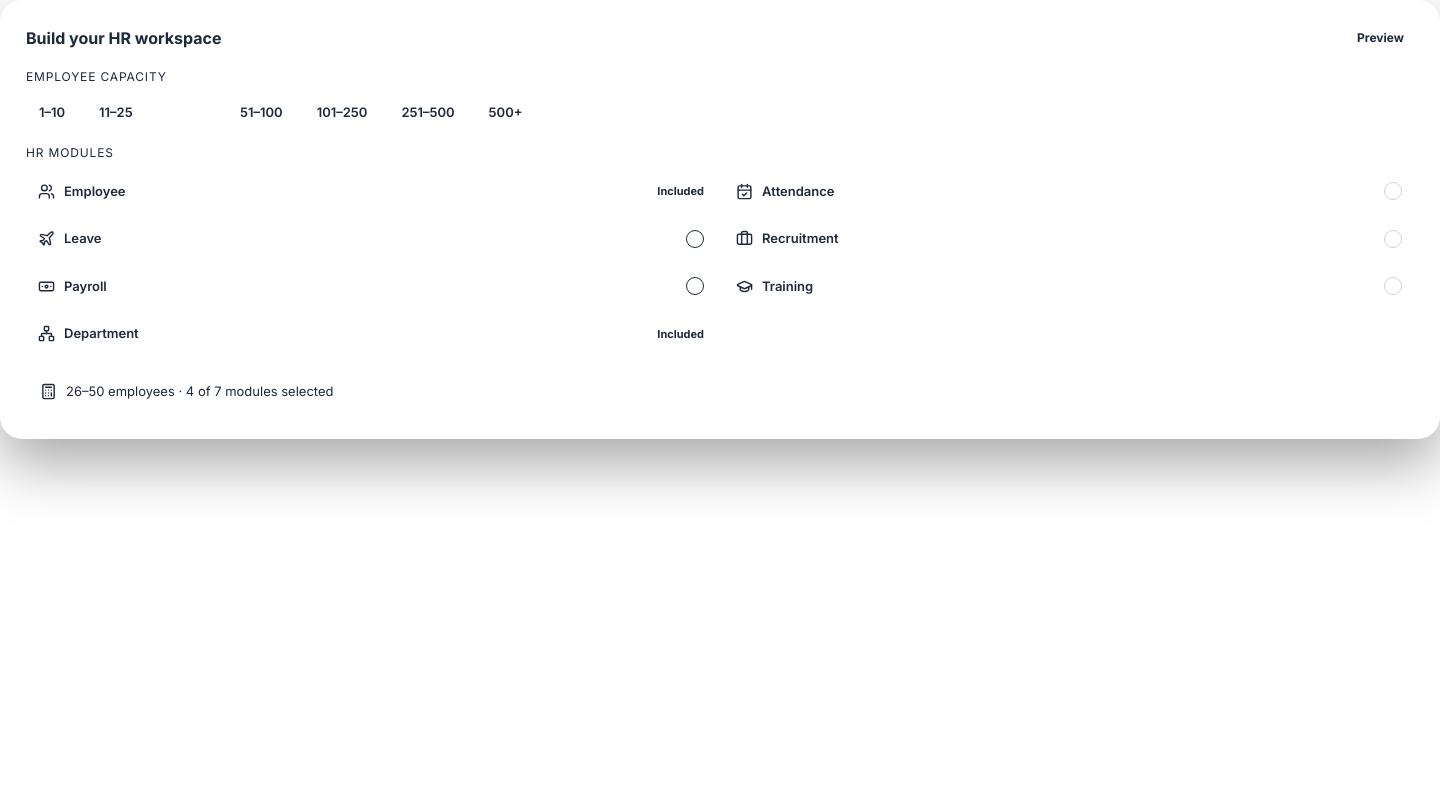
ConfiguratorPreview without an API › updates the summary when capacity and modules change
Step 1. Click the button "500+" → [506, 113], box x1=476 y1=96 x2=536 y2=130
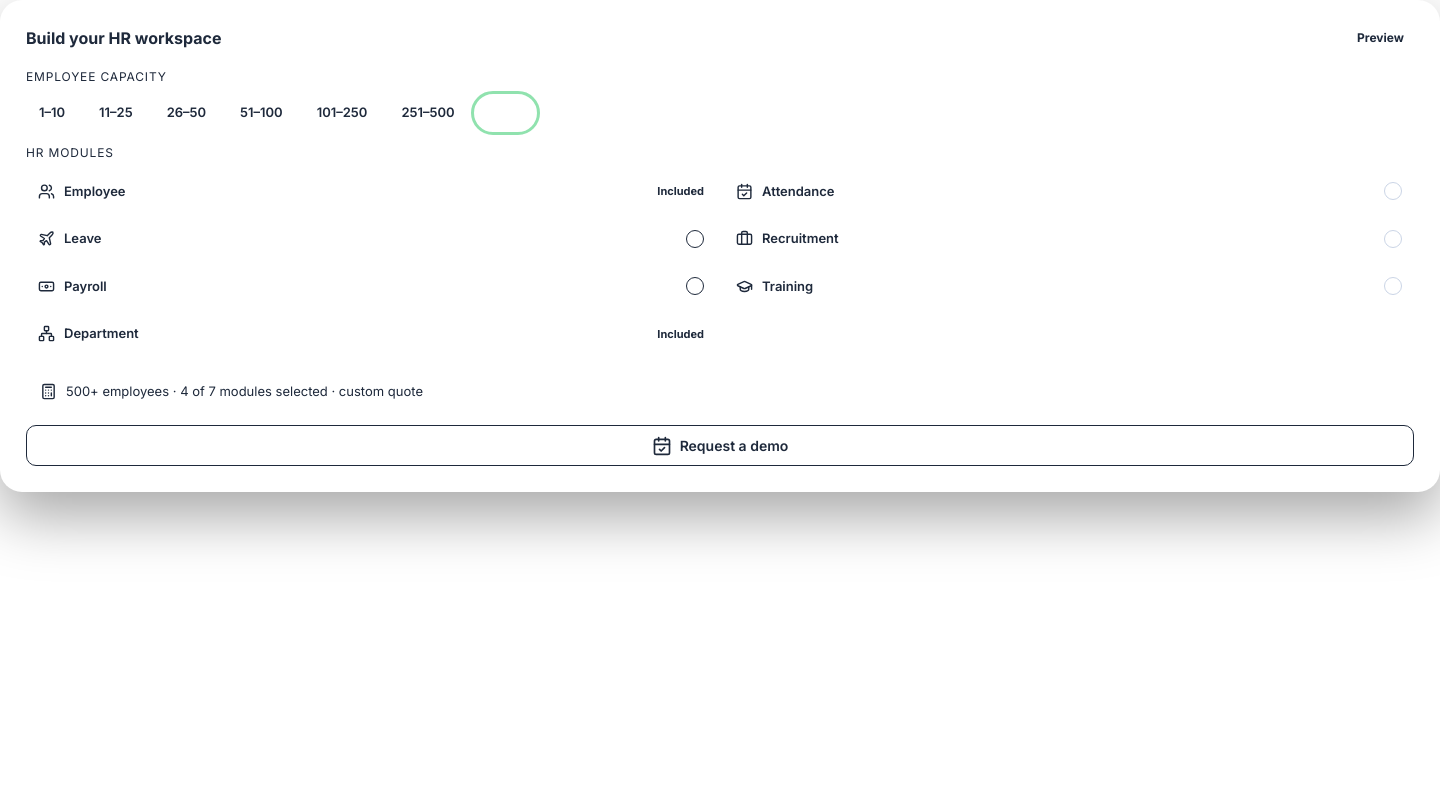
Step 2. Click the button "Training" → [788, 286], box x1=724 y1=266 x2=1414 y2=306
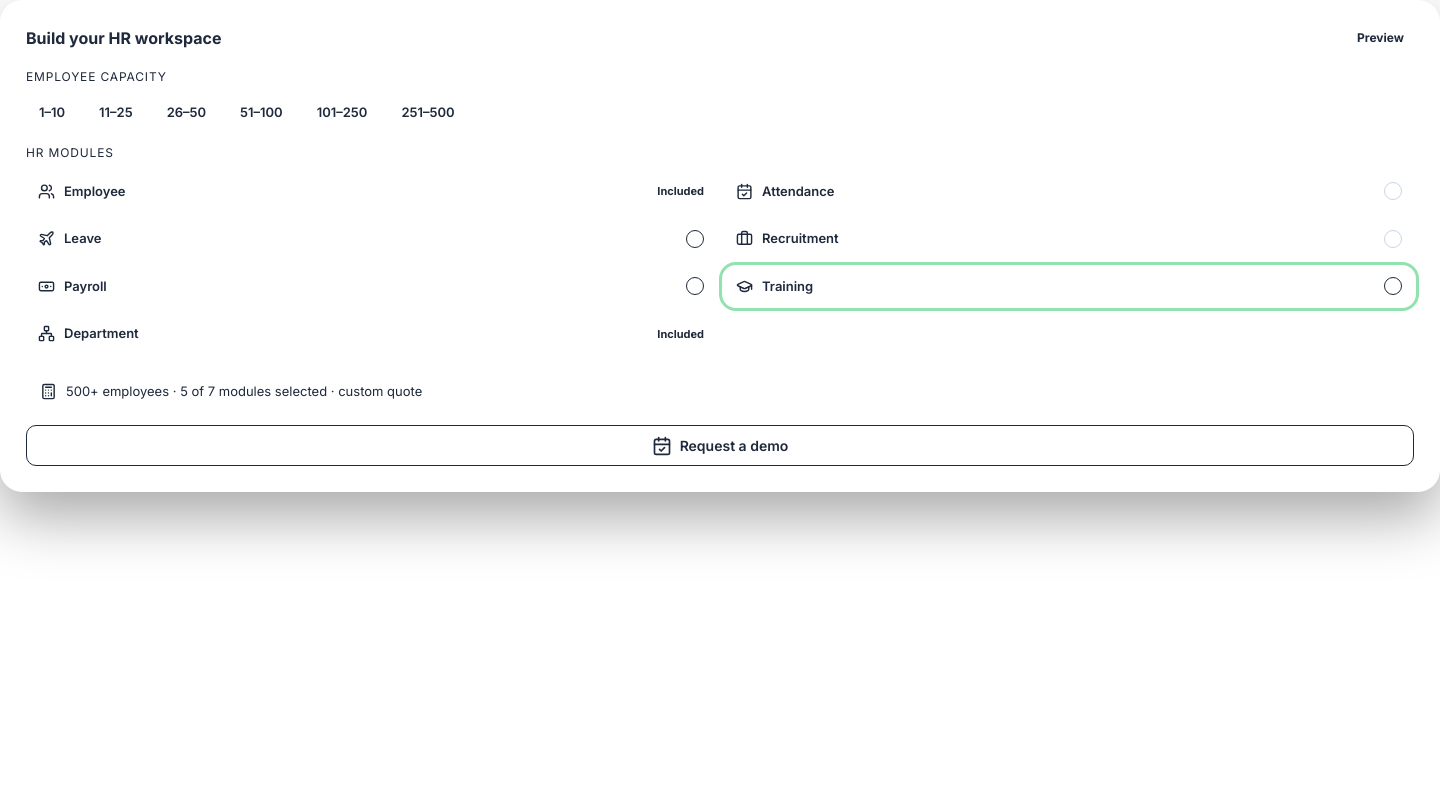
Expected: the link "Request a demo" is shown, x1=26 y1=425 x2=1414 y2=466
Expected: the message reads "500+ employees · 5 of 7 modules selected · custom quote", x1=40 y1=382 x2=422 y2=400
Step 3. Click the button "Training" → [788, 286], box x1=724 y1=266 x2=1414 y2=306
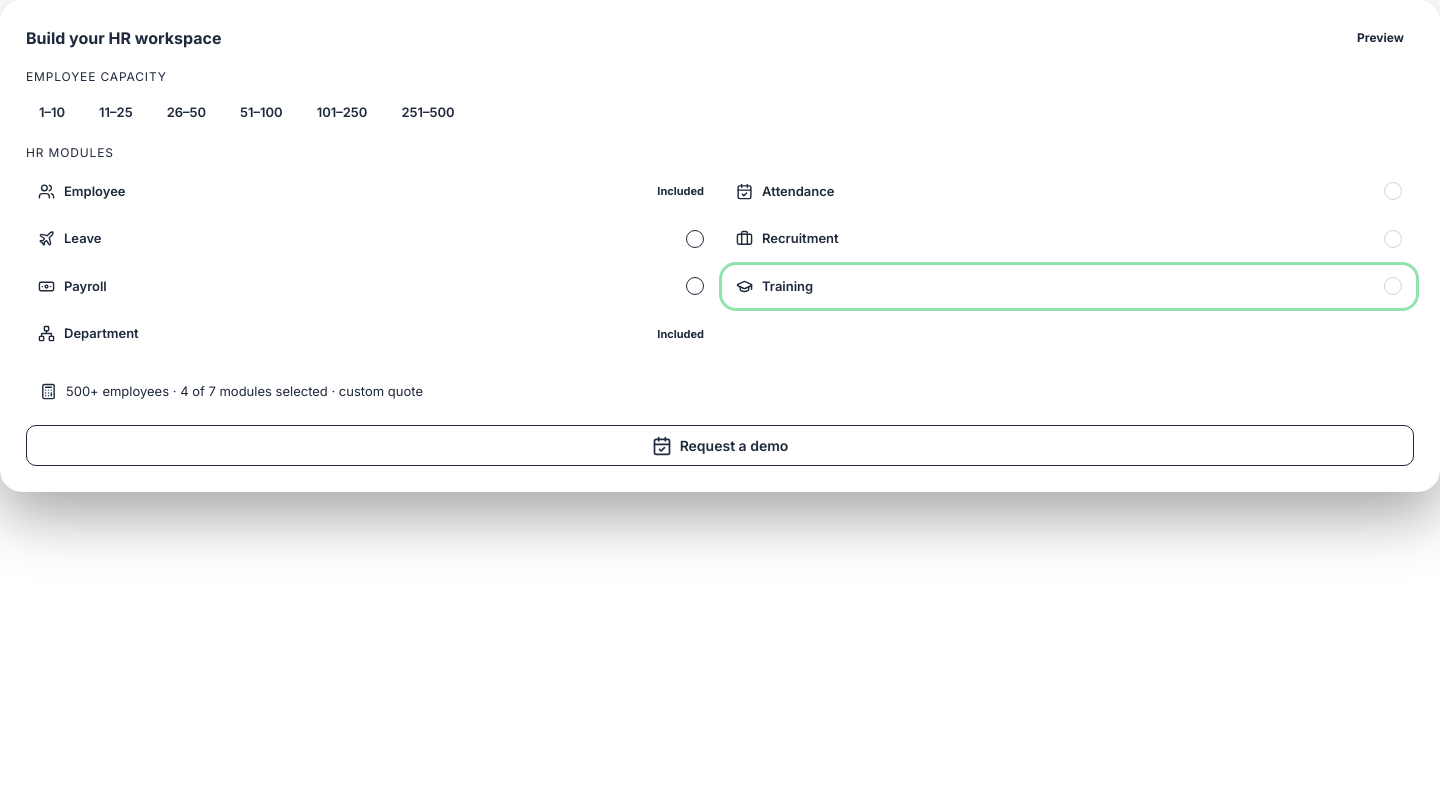
Expected: the message shows "4 of 7 modules", x1=40 y1=382 x2=423 y2=400
